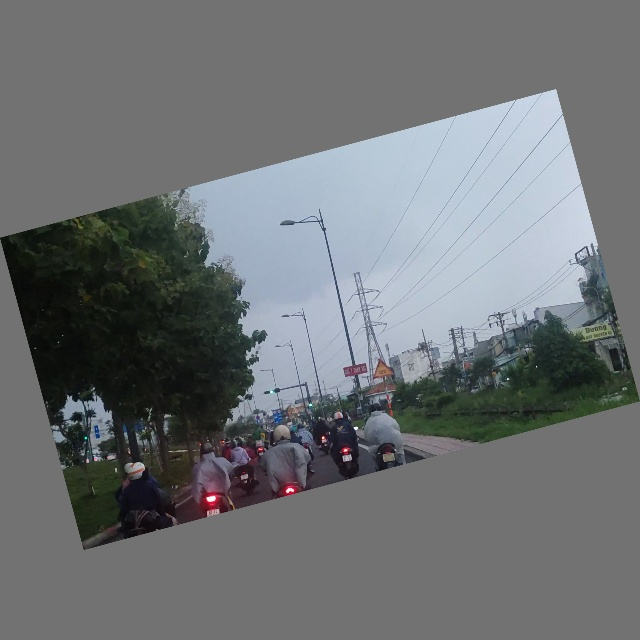W.210: (369, 357, 394, 381)
